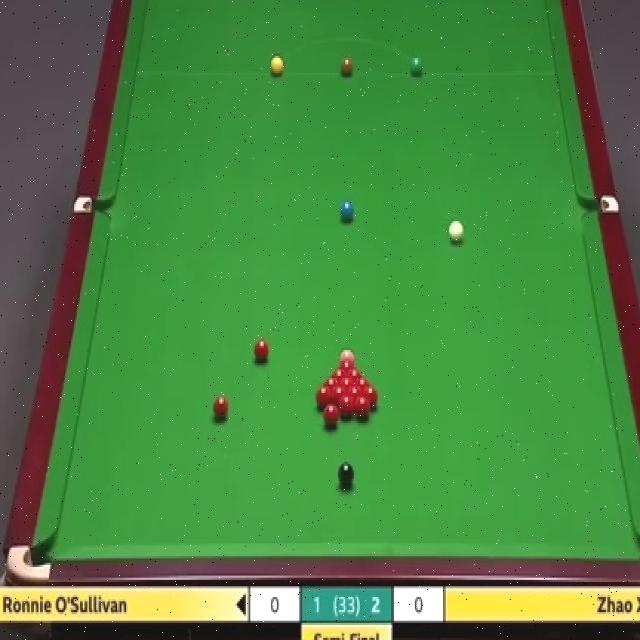black-ball: (338, 461, 354, 489)
blue-ball: (340, 200, 354, 219)
brown-ball: (340, 58, 354, 76)
green-ball: (410, 54, 424, 79)
pink-ball: (339, 349, 356, 367)
red-ball: (355, 394, 371, 422), (316, 384, 333, 410), (212, 395, 228, 422), (322, 402, 340, 425), (255, 338, 269, 365), (340, 394, 355, 417), (346, 387, 364, 406), (362, 386, 379, 406), (354, 375, 371, 391), (324, 375, 341, 390), (333, 387, 345, 408), (347, 365, 361, 382), (340, 375, 354, 391), (332, 367, 348, 381)
white-ball: (448, 221, 463, 247)
yellow-ball: (269, 55, 285, 77)
